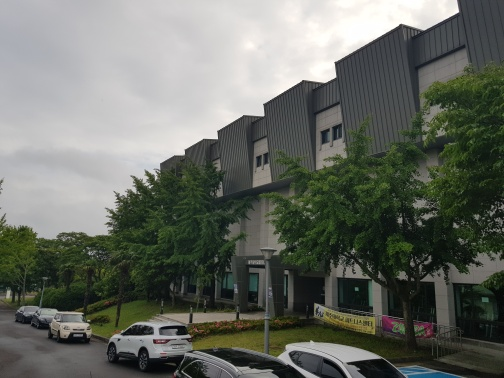Gym: (206, 28, 502, 352), (214, 34, 424, 195), (227, 244, 318, 322)
